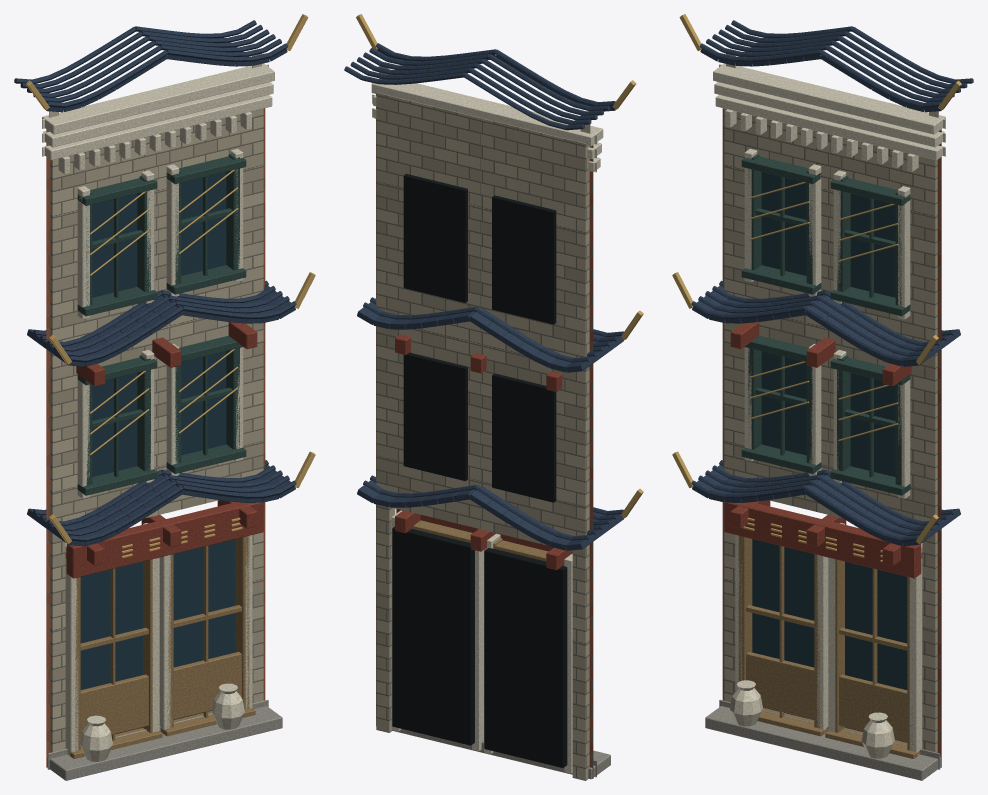
Rendered from CHINA13_lod1.glb.
The picture shows the model from 3 angles, left to right: view 1: azimuth 30°, elevation 25°; view 2: azimuth 150°, elevation 25°; view 3: azimuth 330°, elevation 25°; orthographic projection.
Parts seen in each view (by area): view 1: CHINA13_FRONT_LOD1; view 2: CHINA13_FRONT_LOD1; view 3: CHINA13_FRONT_LOD1.
Part boxes in pixels (x1=…): CHINA13_FRONT_LOD1: x1=14, y1=14, x2=315, y2=780; CHINA13_FRONT_LOD1: x1=344, y1=14, x2=643, y2=780; CHINA13_FRONT_LOD1: x1=672, y1=14, x2=973, y2=780.
Size of the model in its own units: 4.25 by 10.17 by 1.3.
Materials: 13 (10 with a texture image).
